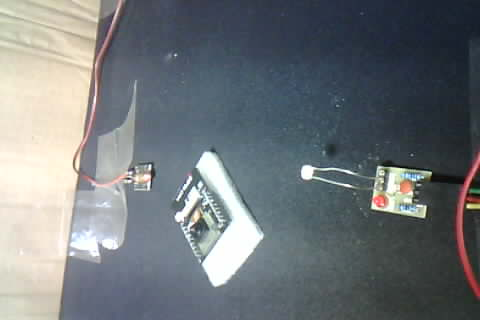esp32: (165, 156, 240, 270)
